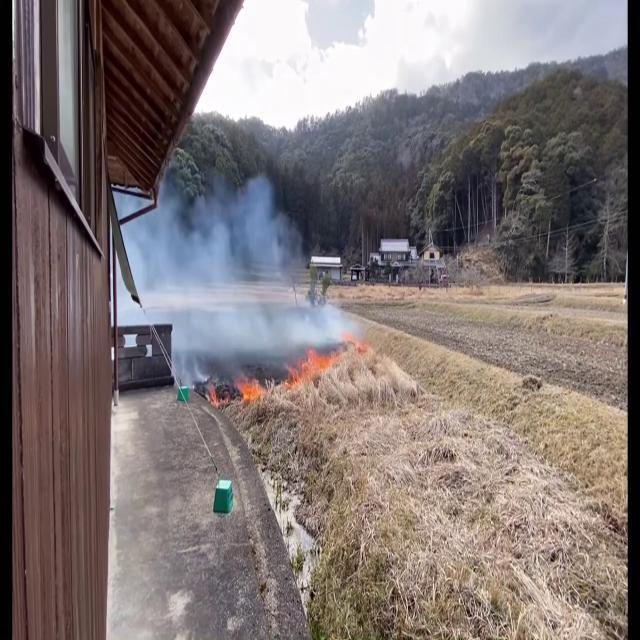Fire: (296, 339, 332, 392), (233, 367, 271, 407)
Smoke: (134, 143, 334, 391)
